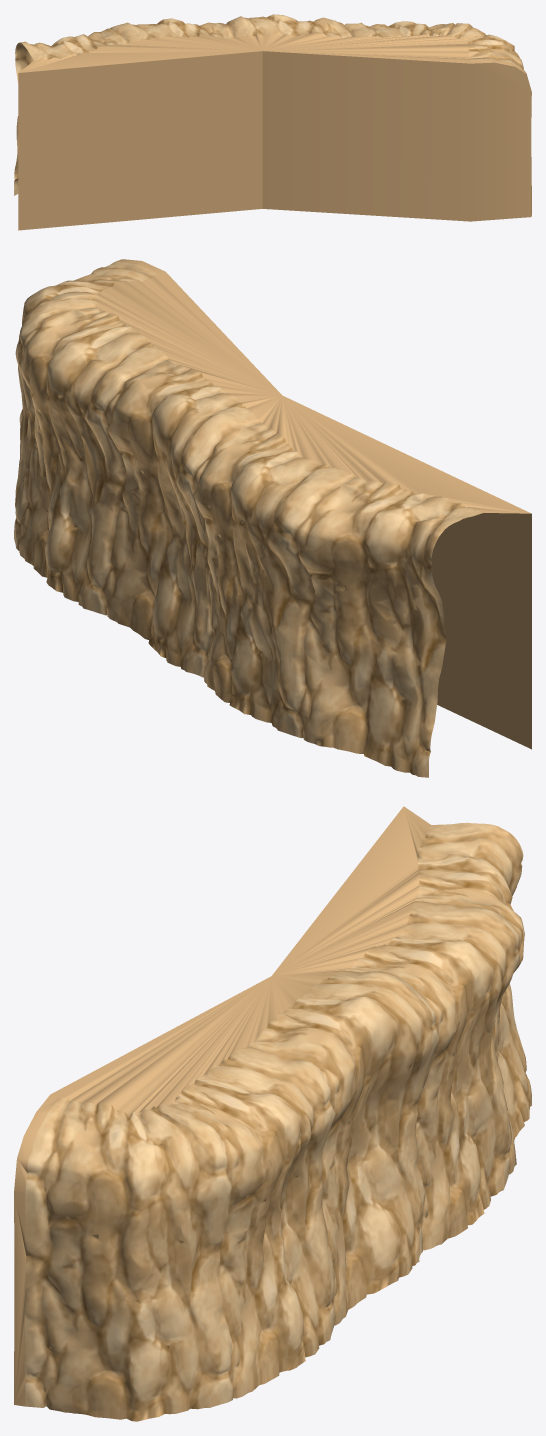
Rendered from SM_ENV_KNFRST_Wall_Ai.FBX.
3 renders of one model, top to bottom at view 1: azimuth 30°, elevation 25°; view 2: azimuth 150°, elevation 25°; view 3: azimuth 270°, elevation 25°, orthographic. The views are drawn at different scales.
Parts seen in each view (by area): view 1: SM_ENV_KNFRST_Wall_Ai; view 2: SM_ENV_KNFRST_Wall_Ai; view 3: SM_ENV_KNFRST_Wall_Ai.
Boxes of the visible parts, x1,y1,x2,y2 form: SM_ENV_KNFRST_Wall_Ai: (14,14,531,230); SM_ENV_KNFRST_Wall_Ai: (14,259,531,777); SM_ENV_KNFRST_Wall_Ai: (14,806,531,1421).
Size of the model in its own units: 8479 by 3169 by 5318.
